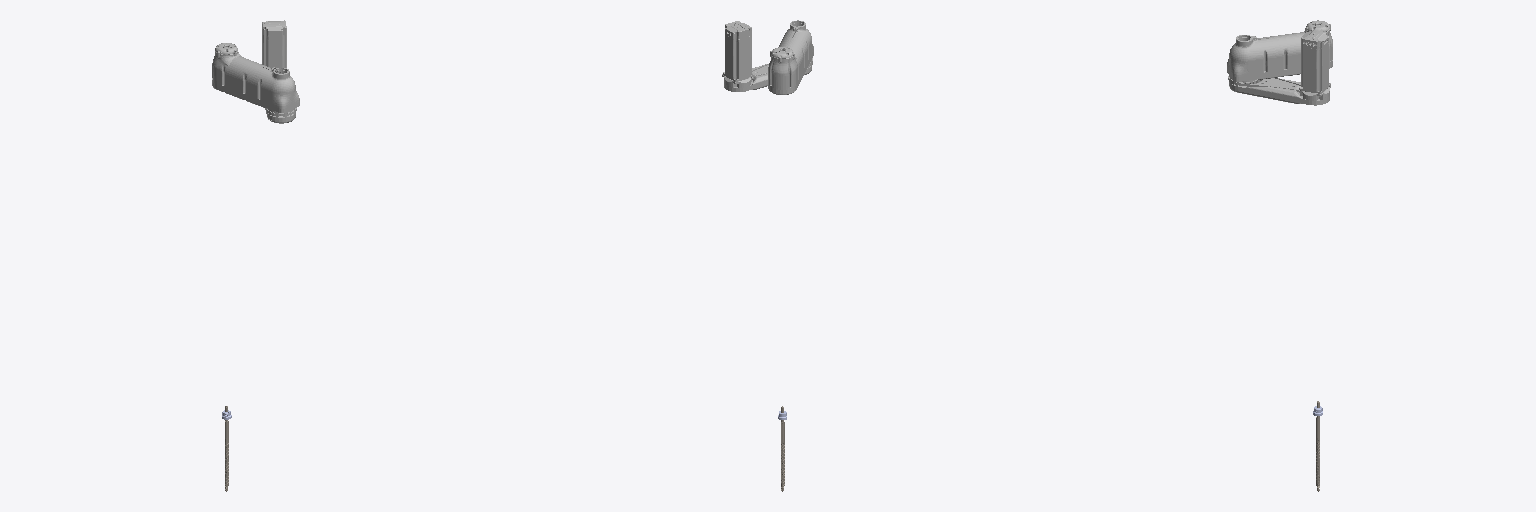
The robot description file, URDF, robot "scara_urdf":
<?xml version="1.0" encoding="utf-8"?>
<!-- This URDF was automatically created by SolidWorks to URDF Exporter! Originally created by Stephen Brawner ([email redacted]) 
     Commit Version: 1.6.0-4-g7f85cfe  Build Version: 1.6.7995.38578
     For more information, please see http://wiki.ros.org/sw_urdf_exporter -->
<robot
  name="scara_urdf">
  <link
    name="base_link">
    <inertial>
      <origin
        xyz="-0.071864 -0.0016854 0.1342"
        rpy="0 0 0" />
      <mass
        value="2.4522" />
      <inertia
        ixx="0.006445"
        ixy="5.7529E-06"
        ixz="-0.00021594"
        iyy="0.014561"
        iyz="-4.8187E-05"
        izz="0.01477" />
    </inertial>
    <visual>
      <origin
        xyz="0 0 0"
        rpy="0 0 0" />
      <geometry>
        <mesh
          filename="package://scara_urdf/meshes/base_link.STL" />
      </geometry>
      <material
        name="">
        <color
          rgba="0.75294 0.75294 0.75294 1" />
      </material>
    </visual>
    <collision>
      <origin
        xyz="0 0 0"
        rpy="0 0 0" />
      <geometry>
        <mesh
          filename="package://scara_urdf/meshes/base_link.STL" />
      </geometry>
    </collision>
  </link>
  <link
    name="link1">
    <inertial>
      <origin
        xyz="0.053526 7.6033E-06 0.039571"
        rpy="0 0 0" />
      <mass
        value="0.67597" />
      <inertia
        ixx="0.00039875"
        ixy="1.0033E-07"
        ixz="7.7182E-07"
        iyy="0.0015746"
        iyz="-4.5315E-07"
        izz="0.0016679" />
    </inertial>
    <visual>
      <origin
        xyz="0 0 0"
        rpy="0 0 0" />
      <geometry>
        <mesh
          filename="package://scara_urdf/meshes/link1.STL" />
      </geometry>
      <material
        name="">
        <color
          rgba="0.75294 0.75294 0.75294 1" />
      </material>
    </visual>
    <collision>
      <origin
        xyz="0 0 0"
        rpy="0 0 0" />
      <geometry>
        <mesh
          filename="package://scara_urdf/meshes/link1.STL" />
      </geometry>
    </collision>
  </link>
  <joint
    name="joint1"
    type="revolute">
    <origin
      xyz="0 0 0.1685"
      rpy="0 0 0" />
    <parent
      link="base_link" />
    <child
      link="link1" />
    <axis
      xyz="0 0 -1" />
    <limit
      lower="2"
      upper="2"
      effort="0"
      velocity="0" />
  </joint>
  <link
    name="link2">
    <inertial>
      <origin
        xyz="0.071772 -5.4121E-06 0.051655"
        rpy="0 0 0" />
      <mass
        value="0.45238" />
      <inertia
        ixx="0.00041579"
        ixy="4.6245E-09"
        ixz="-3.3368E-06"
        iyy="0.0011455"
        iyz="2.203E-08"
        izz="0.0012642" />
    </inertial>
    <visual>
      <origin
        xyz="0 0 0"
        rpy="0 0 0" />
      <geometry>
        <mesh
          filename="package://scara_urdf/meshes/link2.STL" />
      </geometry>
      <material
        name="">
        <color
          rgba="0.75294 0.75294 0.75294 1" />
      </material>
    </visual>
    <collision>
      <origin
        xyz="0 0 0"
        rpy="0 0 0" />
      <geometry>
        <mesh
          filename="package://scara_urdf/meshes/link2.STL" />
      </geometry>
    </collision>
  </link>
  <joint
    name="joint2"
    type="revolute">
    <origin
      xyz="0.18 0 0.012"
      rpy="0 0 0" />
    <parent
      link="link1" />
    <child
      link="link2" />
    <axis
      xyz="0 0 -1" />
    <limit
      lower="2.8"
      upper="2"
      effort="0"
      velocity="0" />
  </joint>
  <link
    name="endZ">
    <inertial>
      <origin
        xyz="0.00023774 -7.5992E-05 0.0071622"
        rpy="0 0 0" />
      <mass
        value="0.0047788" />
      <inertia
        ixx="2.1565E-07"
        ixy="-2.2784E-09"
        ixz="-1.5351E-09"
        iyy="2.1033E-07"
        iyz="3.4652E-10"
        izz="3.4179E-07" />
    </inertial>
    <visual>
      <origin
        xyz="0 0 0"
        rpy="0 0 0" />
      <geometry>
        <mesh
          filename="package://scara_urdf/meshes/endZ.STL" />
      </geometry>
      <material
        name="">
        <color
          rgba="0.79216 0.81961 0.93333 1" />
      </material>
    </visual>
    <collision>
      <origin
        xyz="0 0 0"
        rpy="0 0 0" />
      <geometry>
        <mesh
          filename="package://scara_urdf/meshes/endZ.STL" />
      </geometry>
    </collision>
  </link>
  <joint
    name="jointz"
    type="prismatic">
    <origin
      xyz="0.18 0 0.12133"
      rpy="0 0 0" />
    <parent
      link="link2" />
    <child
      link="endZ" />
    <axis
      xyz="0 0 -1" />
    <limit
      lower="1"
      upper="1"
      effort="0"
      velocity="0" />
  </joint>
  <link
    name="endR">
    <inertial>
      <origin
        xyz="6.29184166989205E-08 4.12390357973358E-07 0.112723585858063"
        rpy="0 0 0" />
      <mass
        value="0.0124115438821334" />
      <inertia
        ixx="4.49421786349982E-05"
        ixy="-2.10306440427476E-09"
        ixz="8.06542420704352E-11"
        iyy="4.49414485455288E-05"
        iyz="1.77882640289398E-10"
        izz="1.64519393558298E-07" />
    </inertial>
    <visual>
      <origin
        xyz="0 0 0"
        rpy="0 0 0" />
      <geometry>
        <mesh
          filename="package://scara_urdf/meshes/endR.STL" />
      </geometry>
      <material
        name="">
        <color
          rgba="0.647058823529412 0.619607843137255 0.588235294117647 1" />
      </material>
    </visual>
    <collision>
      <origin
        xyz="0 0 0"
        rpy="0 0 0" />
      <geometry>
        <mesh
          filename="package://scara_urdf/meshes/endR.STL" />
      </geometry>
    </collision>
  </link>
  <joint
    name="jointr"
    type="continuous">
    <origin
      xyz="0 0 -0.1969"
      rpy="0 0 0" />
    <parent
      link="endZ" />
    <child
      link="endR" />
    <axis
      xyz="0 0 -1" />
  </joint>
</robot>

--- Render facts (derived) ---
The picture shows the robot from 3 angles, left to right: view 1: azimuth 30°, elevation 25°; view 2: azimuth 150°, elevation 25°; view 3: azimuth 270°, elevation 25°; orthographic projection.
Robot: scara_urdf — 5 links, 4 joints (2 revolute, 1 continuous, 1 prismatic); root link base_link; default pose: all joints at 0 but 3 set to mid-range because 0 is outside their limits (joint1 = 2, joint2 = 2.4, jointz = 1).
Links seen in each view (by area): view 1: link2, link1; view 2: link2, link1; view 3: link2, link1.
Link boxes in pixels (box(x1,y1,x2,y2)): link2: box(212, 43, 299, 112); link1: box(262, 20, 296, 123); link2: box(768, 20, 813, 94); link1: box(722, 21, 812, 91); link2: box(1227, 20, 1332, 82); link1: box(1228, 30, 1330, 105).
Bounding box of the posed robot: 0.2033 × 0.2474 × 1.23 m (x, y, z).
4 mesh visuals loaded from 5 distinct referenced files (4 binary STL); not drawn: 1 (reference not matched to a file when rendering).
